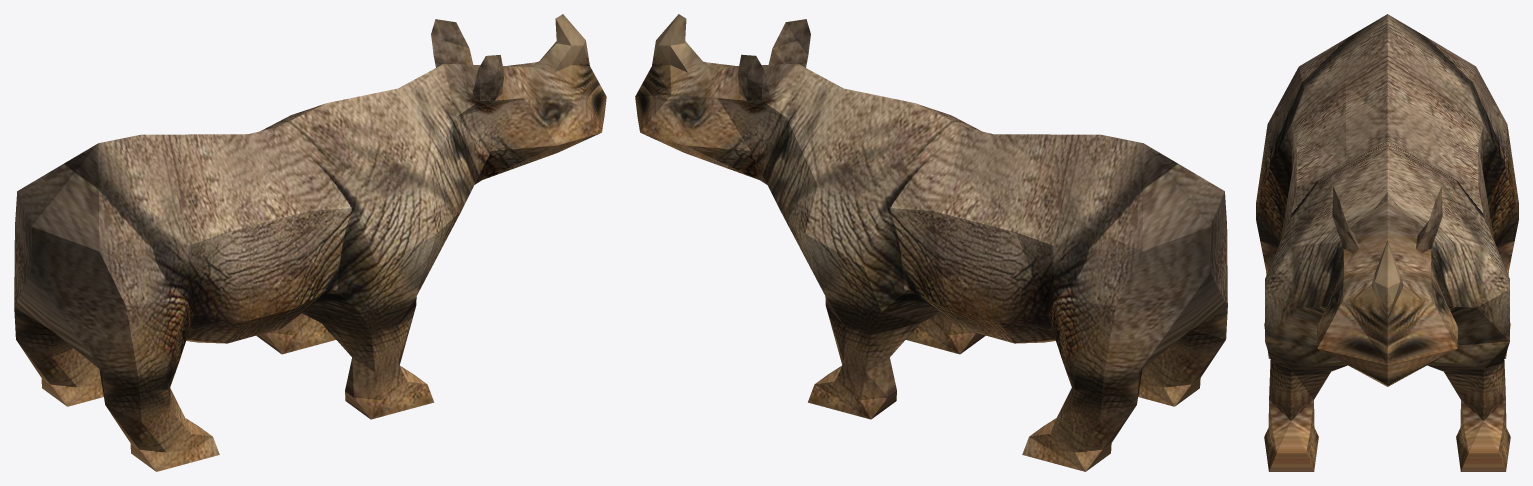
Rendered from rhino.obj.
The picture shows the model from 3 angles, left to right: view 1: azimuth 30°, elevation 25°; view 2: azimuth 150°, elevation 25°; view 3: azimuth 270°, elevation 25°; orthographic projection. The views are drawn at different scales.
Parts seen in each view (by area): view 1: object; view 2: object; view 3: object.
Part boxes in pixels (x1,y1,x2,y2): object: [14, 14, 606, 471]; object: [635, 14, 1227, 471]; object: [1256, 14, 1518, 471].
Size of the model in its own units: 19.31 by 9.78 by 7.09.
Materials: 1 (1 with a texture image).
